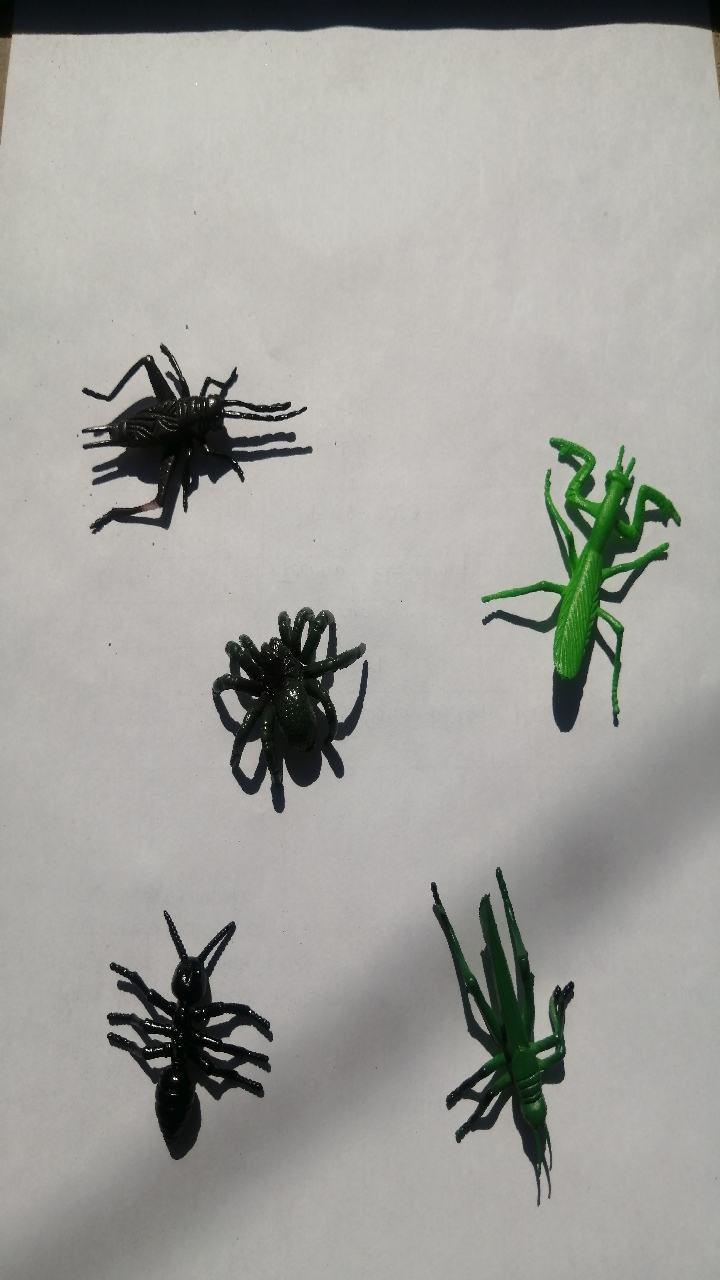intruso: (444, 400, 703, 779), (391, 845, 631, 1231), (29, 291, 315, 554), (77, 879, 311, 1172), (186, 560, 409, 815)
